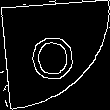O_N: (30, 28, 80, 82)
